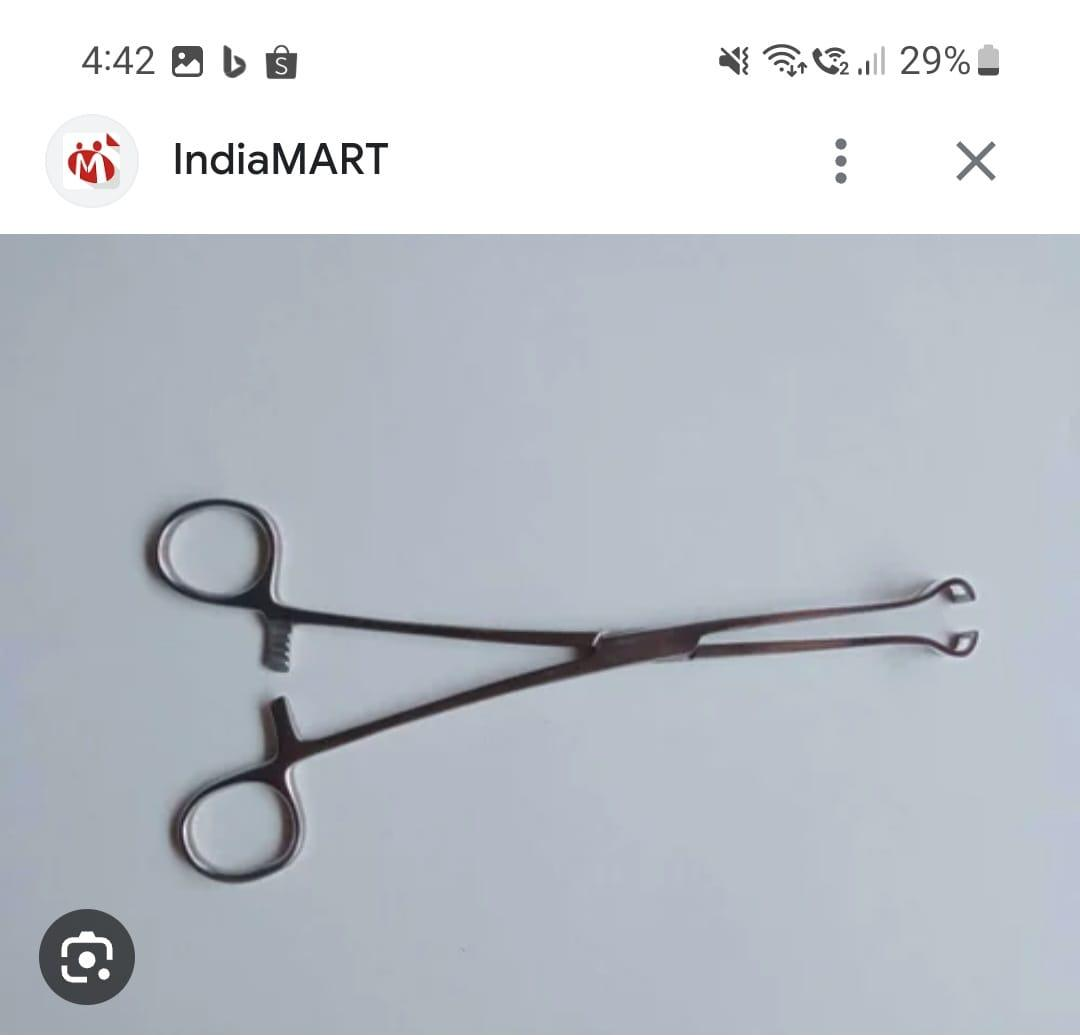Babcock Forceps: (140, 473, 998, 888)
